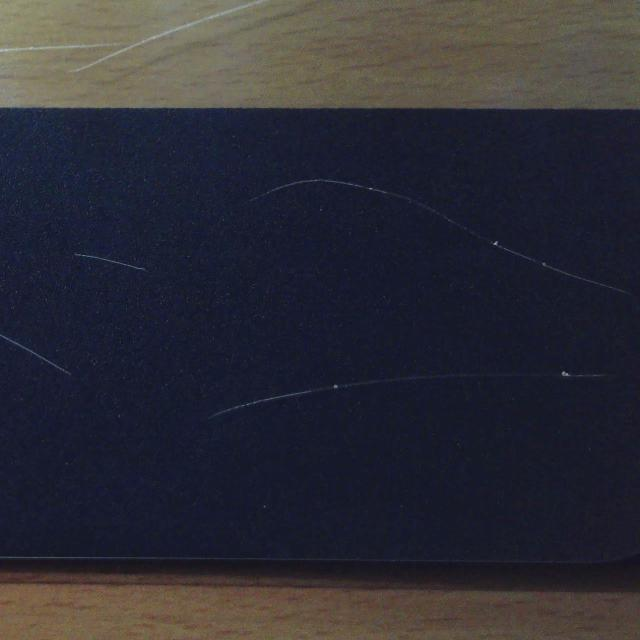defect: (242, 178, 640, 313), (202, 369, 640, 420), (1, 333, 75, 379), (72, 246, 150, 279)
